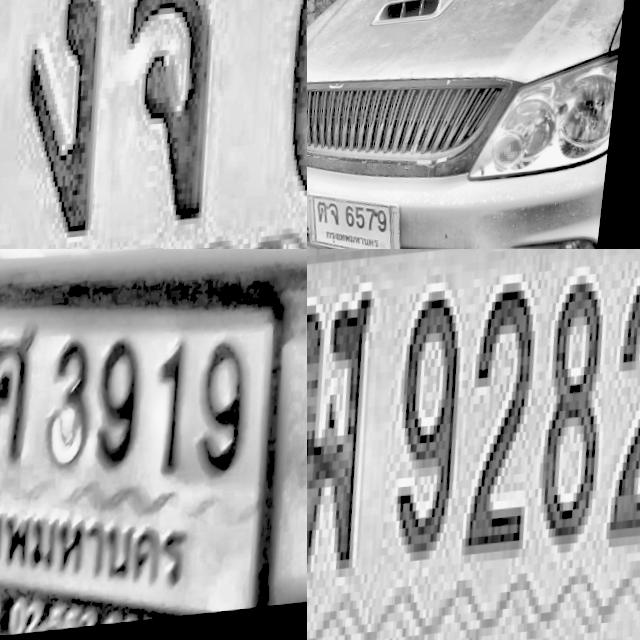license-plate: (307, 249, 640, 640), (0, 306, 281, 620), (0, 0, 307, 249), (308, 182, 423, 249)
